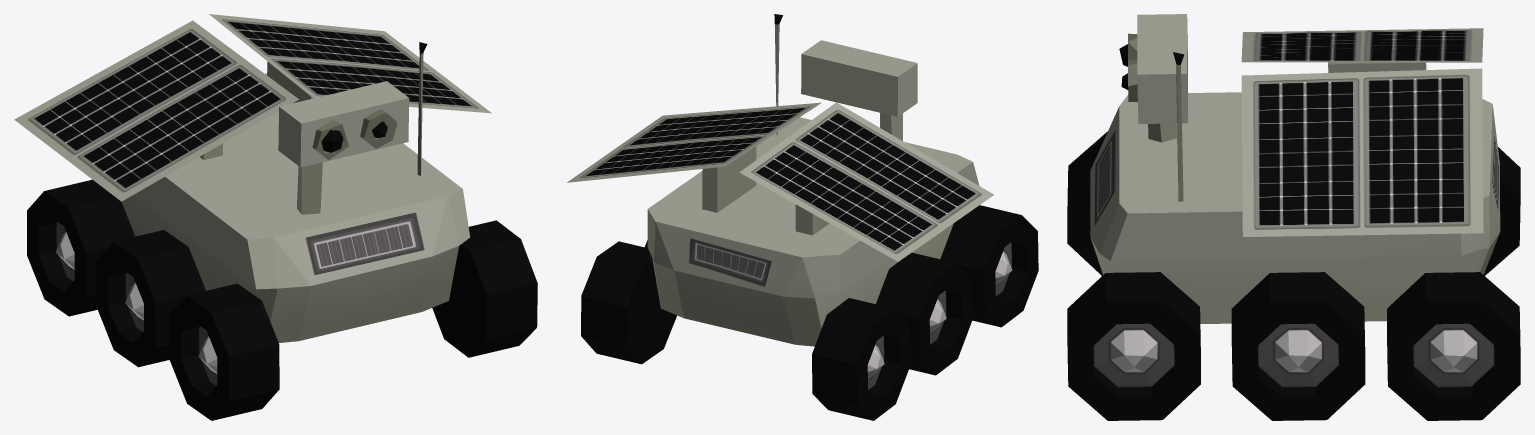
3 views of the same model, side by side, from view 1: azimuth 30°, elevation 25°; view 2: azimuth 150°, elevation 25°; view 3: azimuth 270°, elevation 25° (orthographic). The views are drawn at different scales.
Parts seen in each view (by area): view 1: Rover; view 2: Rover; view 3: Rover.
Boxes of the visible parts, box(x1,y1,x2,y2) form: Rover: box(14, 14, 537, 420); Rover: box(567, 14, 1038, 420); Rover: box(1067, 14, 1520, 420).
Size of the model in its own units: 178 by 135 by 168.
Materials: 1 (1 with a texture image).
